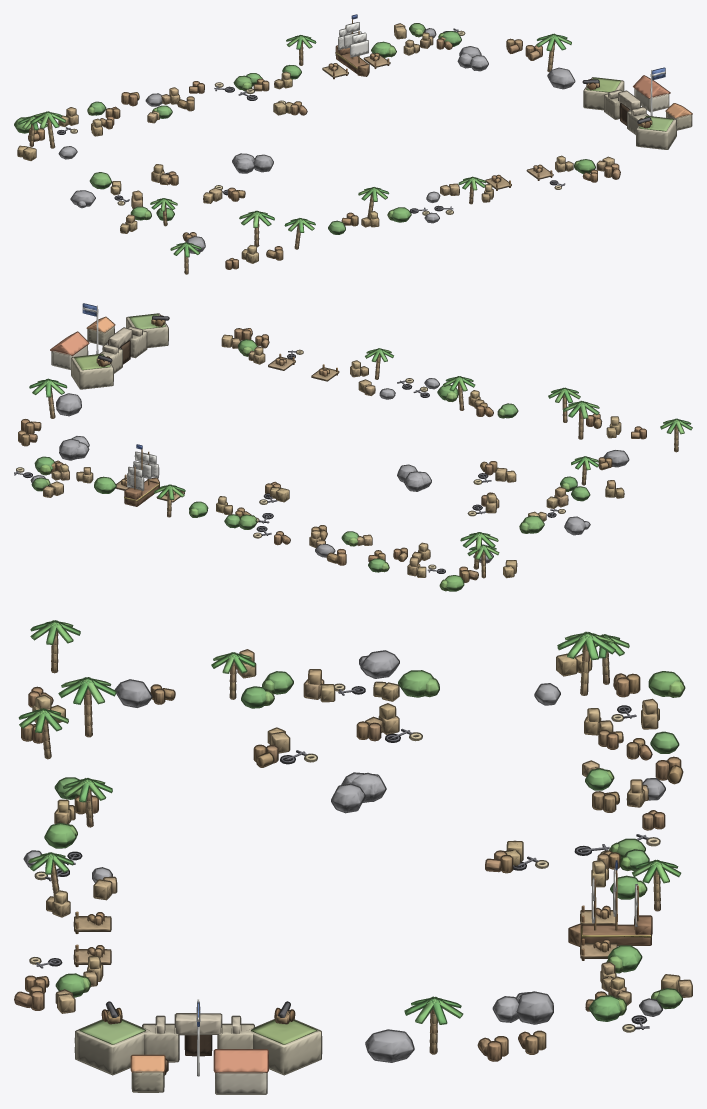
File: smugglers_harbor.glb
The picture shows the model from 3 angles, top to bottom: view 1: azimuth 30°, elevation 25°; view 2: azimuth 150°, elevation 25°; view 3: azimuth 270°, elevation 25°; orthographic projection. The views are drawn at different scales.
Visible parts, largest first — view 1: Baked_matte, Baked_matte_Outline, Baked_metal; view 2: Baked_matte, Baked_matte_Outline, Baked_metal, Baked_metal_Outline; view 3: Baked_matte, Baked_matte_Outline, Baked_metal, Baked_metal_Outline.
Part boxes in pixels (x1,y1,x2,y2): Baked_matte: [14, 15, 691, 273]; Baked_matte_Outline: [14, 14, 692, 274]; Baked_metal: [58, 28, 650, 212]; Baked_matte: [16, 304, 691, 590]; Baked_matte_Outline: [16, 303, 692, 591]; Baked_metal: [14, 316, 558, 573]; Baked_metal_Outline: [23, 315, 556, 573]; Baked_matte: [15, 622, 691, 1093]; Baked_matte_Outline: [14, 620, 692, 1094]; Baked_metal: [36, 687, 649, 1029]; Baked_metal_Outline: [48, 686, 647, 1024].
Size of the model in its own units: 40.9 by 3.93 by 26.96.
